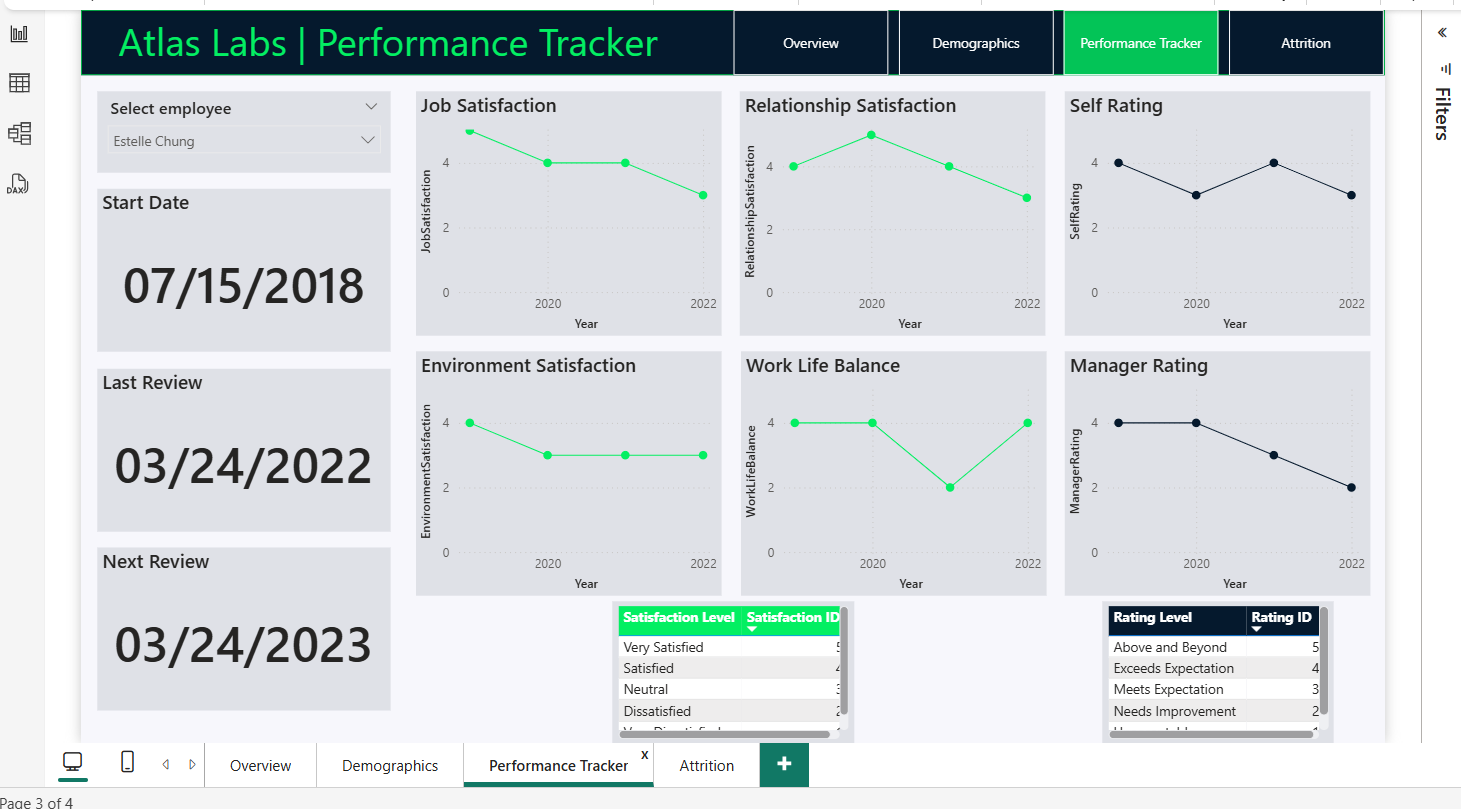

What the dashboard file says about the page in this screenshot:
{"tool":"powerbi","page":{"name":"Performance Tracker","canvas":[1280,720],"ordinal":2},"visuals":[{"type":"shape","box":[0,0,1280,64],"z":0},{"type":"textbox","box":[32,0,624,64],"z":1000},{"type":"pageNavigator","box":[640,0,640,64],"z":2000},{"type":"slicer","fields":{"Values":["DimEmployee.FullName"]},"box":[16,80,288,80],"z":3000},{"type":"card","title":"Start Date","fields":{"Values":["DimEmployee.HireDate"]},"box":[16,176,288,160],"z":4000},{"type":"card","title":"Last Review","fields":{"Values":["_Measures.LastReviewDate"]},"box":[16,352,288,160],"z":5000},{"type":"card","title":"Next Review","fields":{"Values":["_Measures.NextReviewDate"]},"box":[16,528,288,160],"z":6000},{"type":"lineChart","title":"Job Satisfaction","fields":{"Y":["_Measures.JobSatisfaction"],"Category":["DimDate.Year"]},"box":[328.3,79.8,300,240.3],"z":7000},{"type":"lineChart","title":"Relationship Satisfaction","fields":{"Y":["_Measures.RelationshipSatisfaction"],"Category":["DimDate.Year"]},"box":[646.9,79.8,300,240.3],"z":8000},{"type":"lineChart","title":"Self Rating","fields":{"Y":["_Measures.SelfRating"],"Category":["DimDate.Year"]},"box":[965.5,79.8,299.7,240.3],"z":9000},{"type":"lineChart","title":"Work Life Balance","fields":{"Y":["_Measures.WorkLifeBalance"],"Category":["DimDate.Year"]},"box":[647.4,335.5,299.7,240.3],"z":10000},{"type":"lineChart","title":"Manager Rating","fields":{"Y":["_Measures.ManagerRating"],"Category":["DimDate.Year"]},"box":[965.5,335.5,299.7,240.3],"z":11000},{"type":"lineChart","title":"Environment Satisfaction","fields":{"Y":["_Measures.EnvironmentSatisfaction"],"Category":["DimDate.Year"]},"box":[328.3,335.5,300,240.3],"z":12000},{"type":"tableEx","fields":{"Values":["DimRatingLevel.RatingLevel","DimRatingLevel.RatingID"]},"box":[1002.3,579.9,227,140.1],"z":13000},{"type":"tableEx","fields":{"Values":["DimSatisfiedLevel.SatisfactionLevel","DimSatisfiedLevel.SatisfactionID"]},"box":[521.6,579.9,237.3,140.1],"z":14000}]}

Visuals, with their boxes on the page's 1280x720 design canvas (x1, y1, x2, y2). These are canvas units, not pixel positions in the 1461x809 screenshot, which may show the page scaled, cropped or inside an application window:
shape: region(0, 0, 1280, 64)
textbox: region(32, 0, 656, 64)
pageNavigator: region(640, 0, 1280, 64)
slicer - DimEmployee.FullName: region(16, 80, 304, 160)
"Start Date" card: region(16, 176, 304, 336)
"Last Review" card: region(16, 352, 304, 512)
"Next Review" card: region(16, 528, 304, 688)
"Job Satisfaction" lineChart: region(328, 80, 628, 320)
"Relationship Satisfaction" lineChart: region(647, 80, 947, 320)
"Self Rating" lineChart: region(966, 80, 1265, 320)
"Work Life Balance" lineChart: region(647, 336, 947, 576)
"Manager Rating" lineChart: region(966, 336, 1265, 576)
"Environment Satisfaction" lineChart: region(328, 336, 628, 576)
tableEx - DimRatingLevel.RatingLevel x DimRatingLevel.RatingID: region(1002, 580, 1229, 720)
tableEx - DimSatisfiedLevel.SatisfactionLevel x DimSatisfiedLevel.SatisfactionID: region(522, 580, 759, 720)
